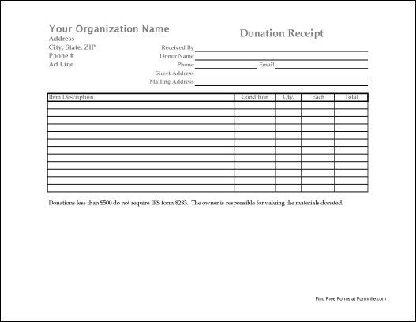textbox: (46, 159, 237, 172), (44, 122, 237, 134), (44, 174, 237, 186), (45, 144, 237, 156), (45, 182, 236, 194), (47, 129, 235, 141), (43, 115, 237, 126), (45, 137, 237, 148), (46, 167, 238, 178), (45, 107, 236, 118), (46, 152, 237, 163), (46, 100, 235, 110), (231, 106, 278, 119), (231, 159, 278, 171), (231, 167, 278, 179), (231, 174, 278, 186), (231, 129, 277, 141), (232, 182, 278, 194), (232, 144, 277, 156), (232, 151, 277, 163), (233, 99, 277, 111), (232, 114, 276, 126), (232, 137, 278, 148), (233, 122, 277, 133), (332, 129, 369, 142), (298, 167, 337, 179), (298, 174, 337, 186), (298, 99, 336, 111), (299, 114, 337, 126), (299, 129, 337, 141), (298, 144, 336, 156), (299, 182, 337, 194), (332, 99, 370, 111), (332, 144, 370, 156), (299, 159, 336, 171), (332, 106, 369, 118), (332, 114, 369, 126), (332, 159, 369, 171), (332, 174, 369, 186), (298, 107, 337, 118), (298, 122, 336, 133), (299, 137, 337, 148), (332, 137, 370, 148), (332, 152, 370, 163), (332, 182, 370, 193), (298, 152, 335, 163), (332, 122, 369, 133), (332, 167, 369, 178), (272, 99, 304, 111), (272, 129, 303, 141), (273, 114, 303, 126), (273, 144, 303, 156), (273, 159, 303, 171), (272, 174, 302, 186), (274, 106, 303, 118), (273, 122, 303, 133), (273, 152, 303, 163), (273, 167, 303, 178), (273, 137, 302, 148), (273, 182, 302, 193)
textline: (193, 43, 369, 53), (193, 79, 370, 88), (193, 71, 370, 79), (193, 54, 369, 62), (274, 62, 369, 71), (194, 62, 259, 70)
